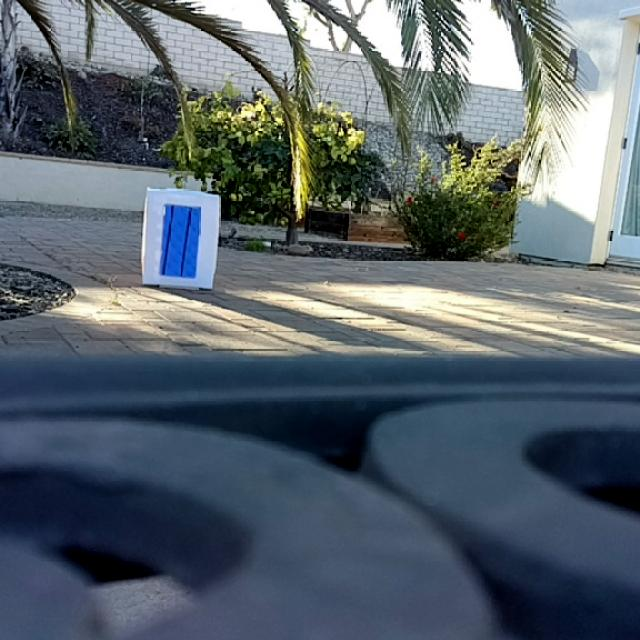led: (161, 202, 200, 279)
